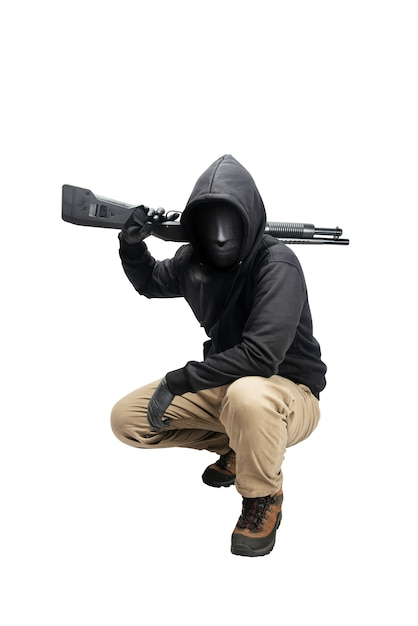gun: (60, 180, 355, 247)
